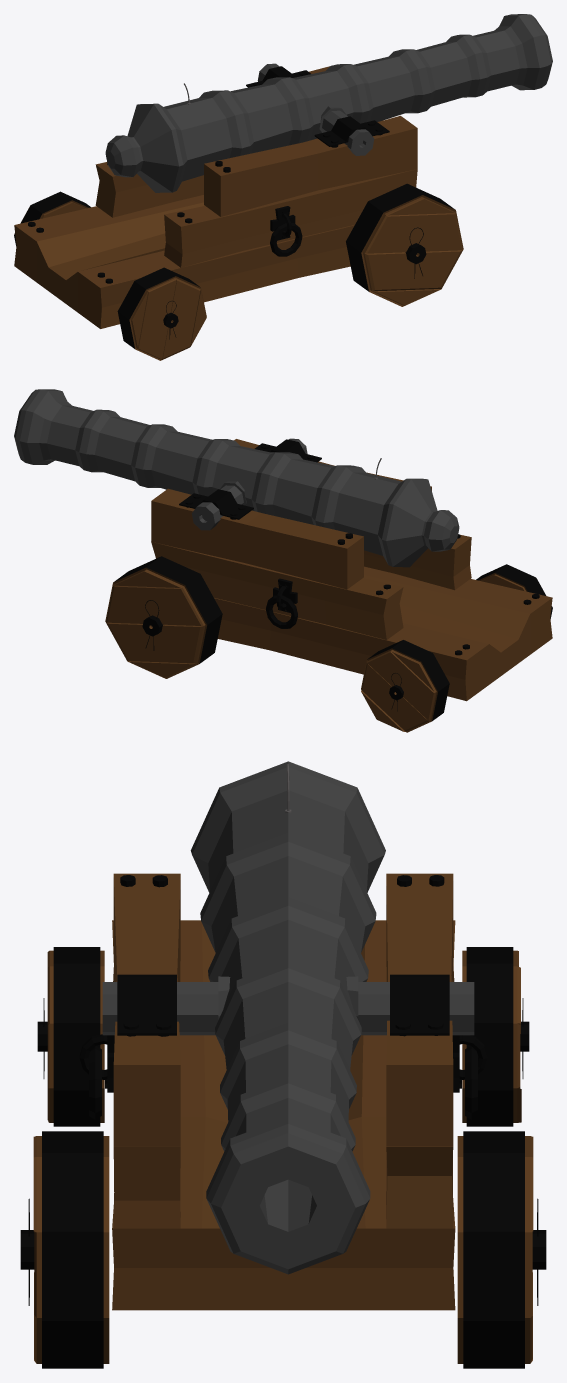
3 renders of one model, top to bottom at view 1: azimuth 30°, elevation 25°; view 2: azimuth 150°, elevation 25°; view 3: azimuth 270°, elevation 25°, orthographic. The views are drawn at different scales.
Visible parts, largest first — view 1: Base_1, Shaft_0; view 2: Base_1, Shaft_0; view 3: Base_1, Shaft_0.
Part boxes in pixels (x1,y1,x2,y2): Base_1: (14, 66, 463, 360); Shaft_0: (105, 14, 552, 192); Base_1: (105, 439, 552, 732); Shaft_0: (14, 389, 459, 567); Base_1: (20, 873, 546, 1368); Shaft_0: (102, 761, 474, 1274).
Size of the model in its own units: 4.2 by 1.81 by 2.
3 materials, 1 textured.
